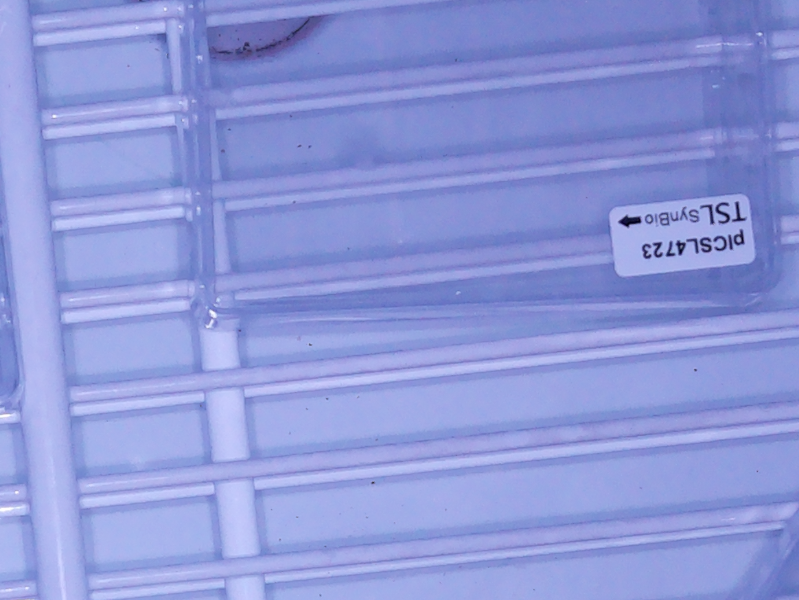plate: (181, 1, 785, 333)
